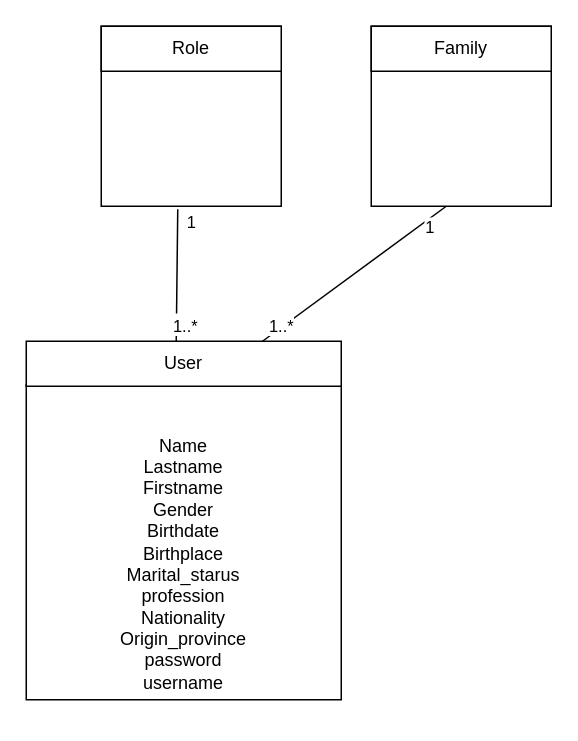
The diagram is 578 pixels wide and 741 high, and some of its shapes have lost their labels. Here are the shapes that lost their labels. From the top down, the box of each, then its label:
(100, 25, 281, 206): name
(370, 25, 551, 206): name icon
